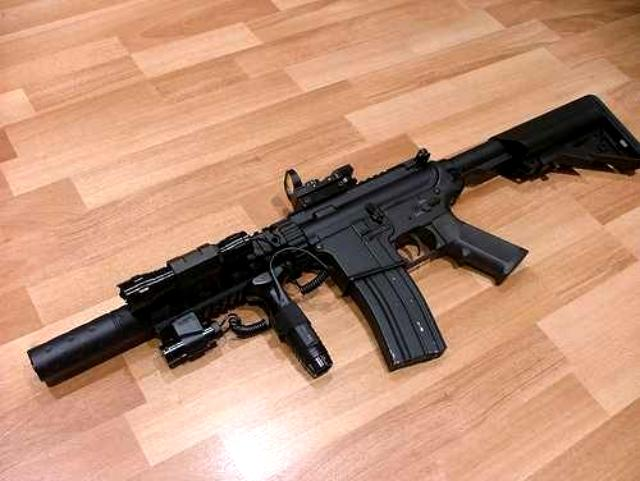rifle: (18, 61, 640, 389)
